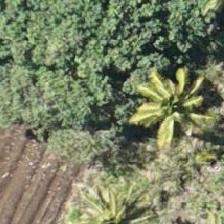coconut_tree: (125, 54, 215, 144)
